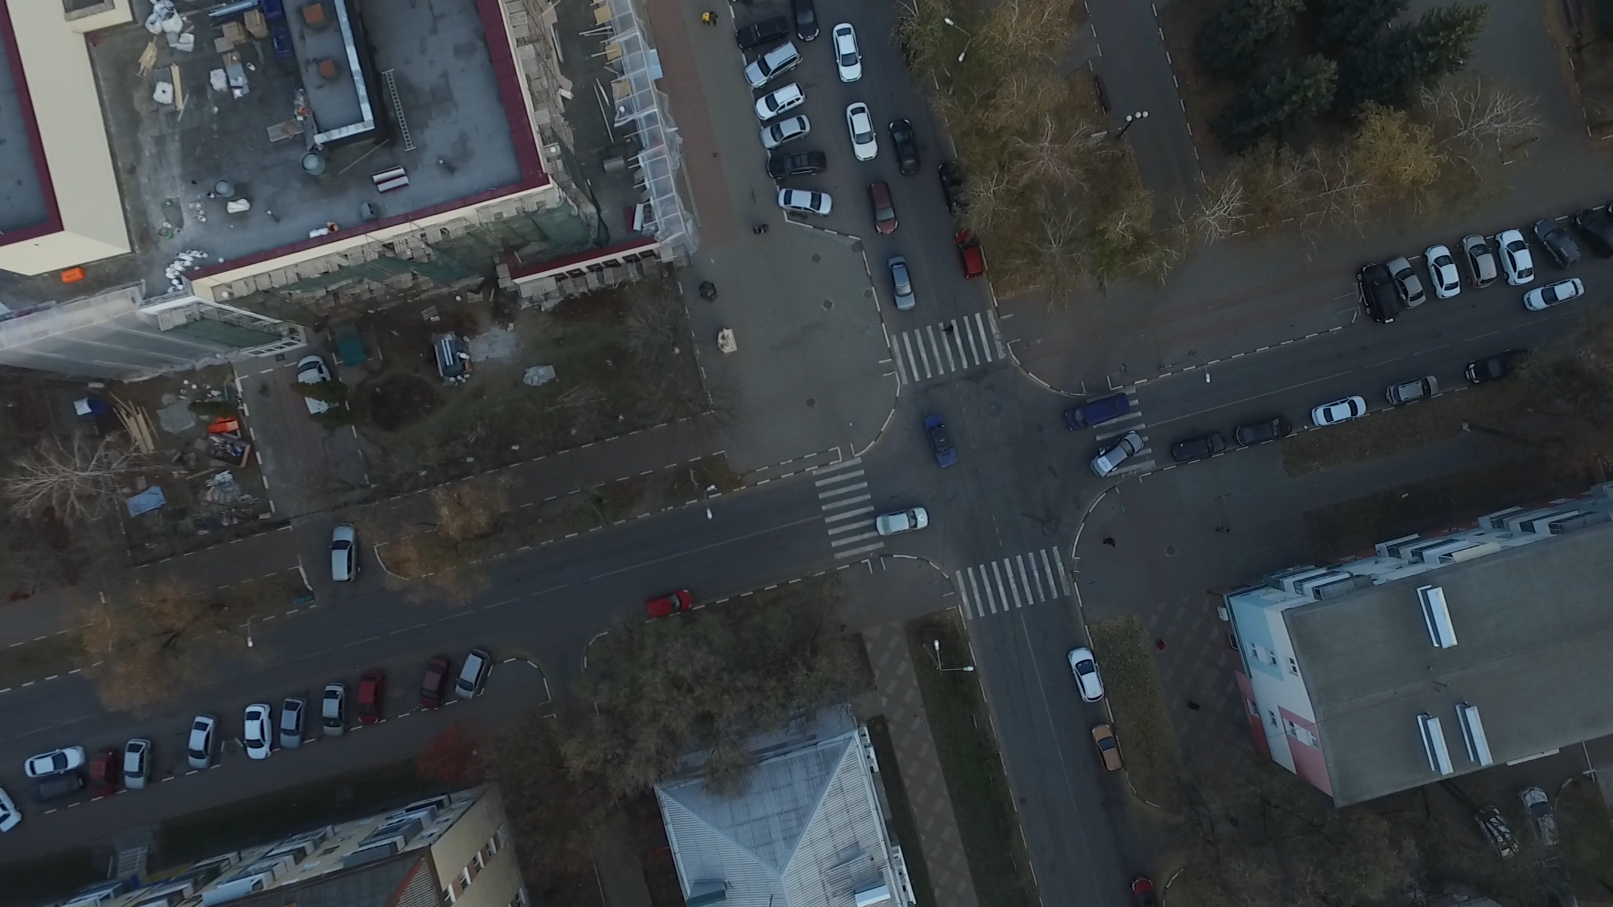car: (1518, 785, 1566, 856), (744, 38, 803, 89), (1087, 429, 1143, 480), (1353, 261, 1398, 324), (1530, 218, 1579, 271), (1467, 806, 1514, 860), (236, 701, 275, 766), (1064, 648, 1103, 711), (1062, 393, 1130, 430), (322, 523, 361, 586), (1465, 349, 1533, 384), (1459, 233, 1500, 291), (777, 181, 834, 221), (451, 648, 493, 701), (1523, 277, 1584, 313), (769, 146, 831, 181), (937, 162, 976, 216), (1574, 208, 1613, 262), (23, 748, 86, 781), (413, 656, 451, 711), (1388, 256, 1426, 311), (925, 414, 964, 467), (842, 102, 876, 162), (1425, 243, 1460, 300), (113, 738, 151, 791), (179, 717, 217, 770), (830, 20, 862, 82), (1309, 394, 1369, 427), (1498, 228, 1532, 286), (79, 745, 116, 796), (352, 668, 387, 723), (752, 85, 806, 120), (271, 697, 307, 749), (866, 181, 898, 237), (888, 121, 921, 177), (954, 228, 987, 282), (757, 116, 812, 148), (886, 256, 916, 313), (1236, 416, 1292, 447), (316, 683, 347, 738), (1169, 432, 1224, 462), (1386, 377, 1441, 405), (640, 588, 694, 618), (734, 18, 788, 48), (1089, 726, 1119, 776), (876, 509, 932, 536), (791, 1, 819, 41), (1130, 877, 1160, 907)
